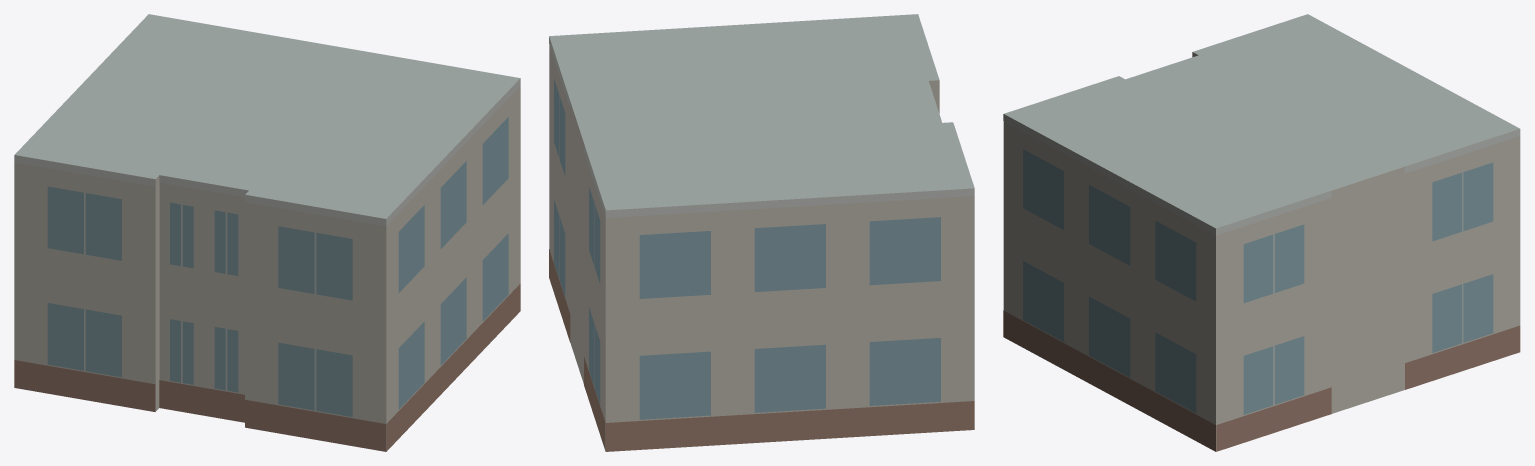
File: survey-upis-32747179.glb
The picture shows the model from 3 angles, left to right: view 1: azimuth 30°, elevation 25°; view 2: azimuth 150°, elevation 25°; view 3: azimuth 270°, elevation 25°; orthographic projection. The views are drawn at different scales.
Parts seen in each view (by area): view 1: survey-upis-32747179.tmp; view 2: survey-upis-32747179.tmp; view 3: survey-upis-32747179.tmp.
Boxes of the visible parts, x1=… form: survey-upis-32747179.tmp: x1=14, y1=14, x2=520, y2=451; survey-upis-32747179.tmp: x1=549, y1=14, x2=974, y2=451; survey-upis-32747179.tmp: x1=1003, y1=14, x2=1520, y2=451.
Size of the model in its own units: 15.87 by 7.7 by 16.15.
